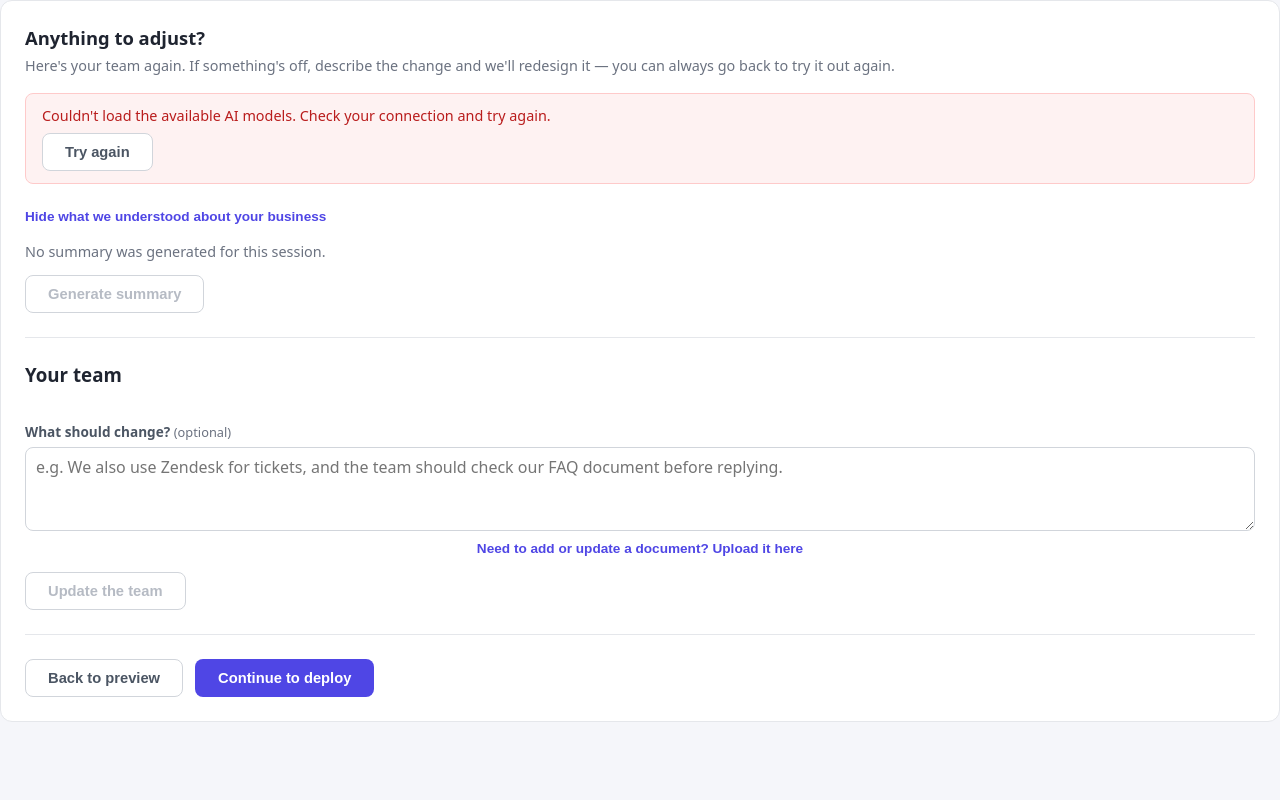
Scenario: ConfirmPage › when no model is available › explains a failed catalog fetch and offers a retry that recovers
Expected: the text "Couldn't load the available AI models" is shown, left=42, top=106, right=551, bottom=125
Click the button "Try again": (97, 152) left=42, top=133, right=153, bottom=171
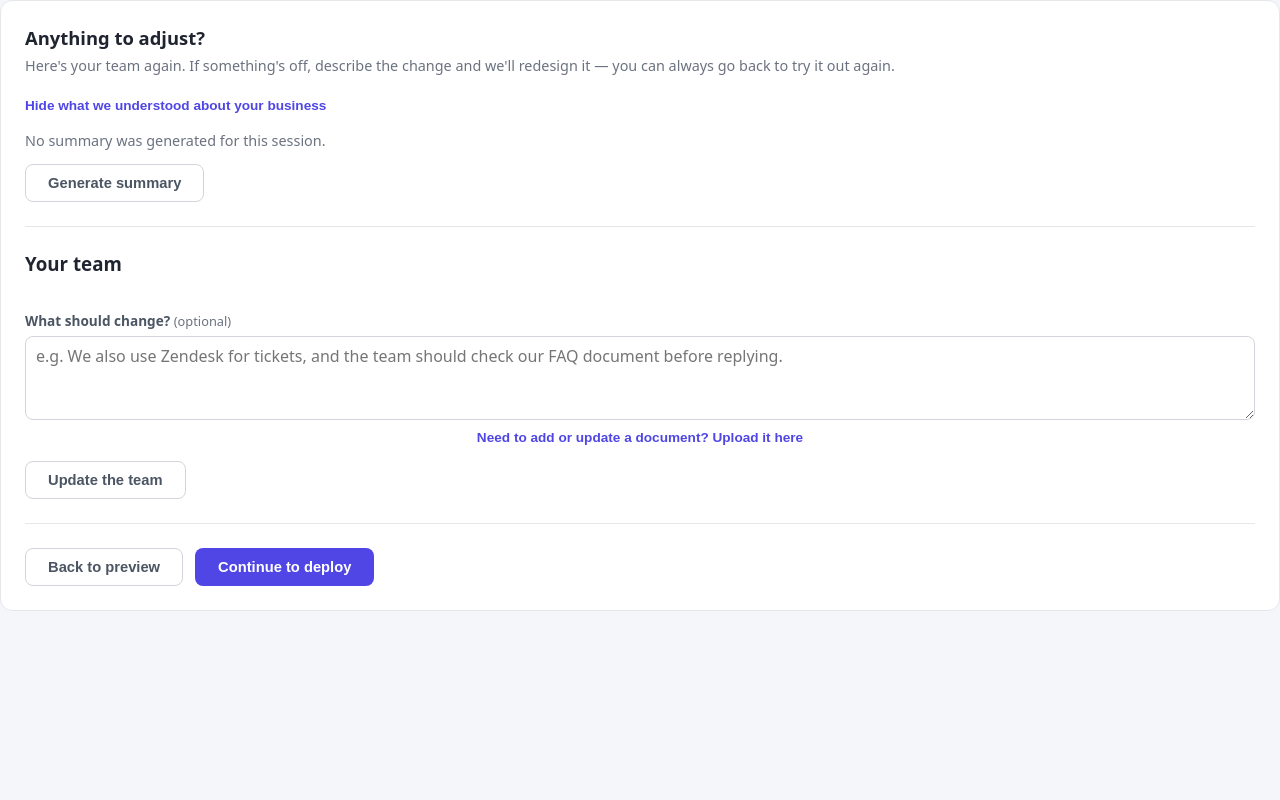
Now the text "Couldn't load the available AI models" is gone
Now the button "Update the team" is enabled, box left=25, top=461, right=186, bottom=499
